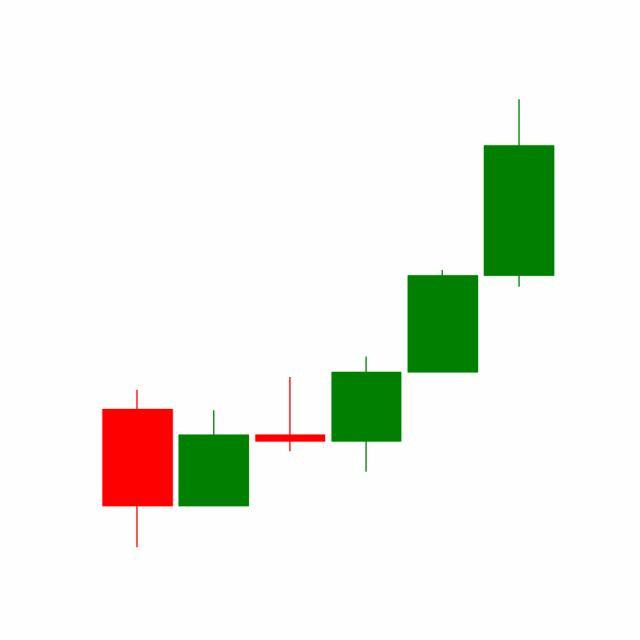Marubozu: (404, 269, 482, 374)
